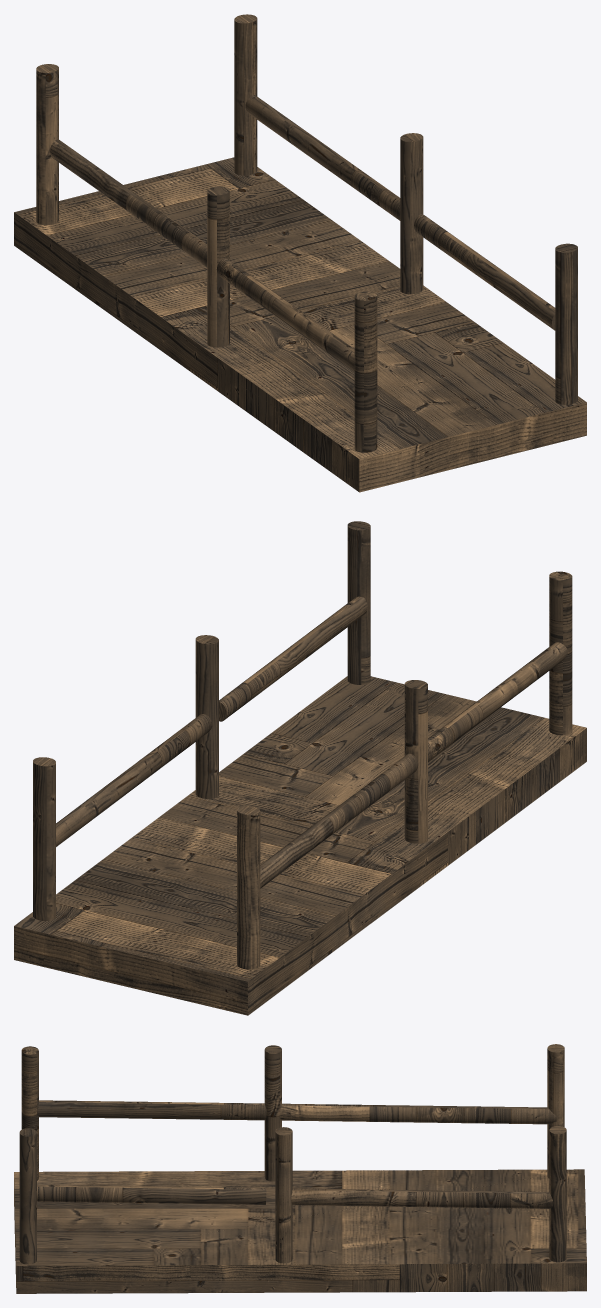
Rendered from Bridge.fbx.
The picture shows the model from 3 angles, top to bottom: view 1: azimuth 30°, elevation 25°; view 2: azimuth 150°, elevation 25°; view 3: azimuth 270°, elevation 25°; orthographic projection. The views are drawn at different scales.
Visible parts, largest first — view 1: pCube6; view 2: pCube6; view 3: pCube6.
Boxes of the visible parts, box(x1,y1,x2,y2) form: pCube6: box(14, 14, 586, 492); pCube6: box(14, 521, 586, 1015); pCube6: box(14, 1044, 586, 1293).
Size of the model in its own units: 1.34 by 1.01 by 3.36.
1 material, 1 textured.
